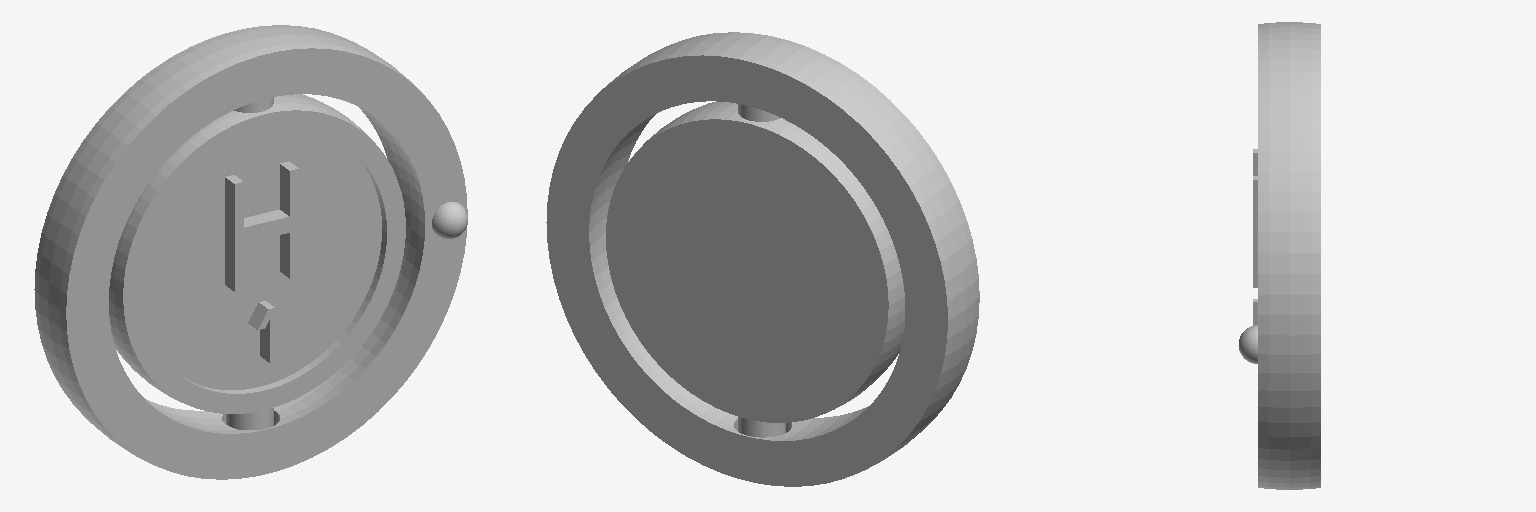
Rendered from 001_-_H_-_Hydrogen.obj.
The picture shows the model from 3 angles: view 1: azimuth 30°, elevation 25°; view 2: azimuth 150°, elevation 25°; view 3: azimuth 270°, elevation 25°; orthographic projection.
Parts seen in each view (by area): view 1: Object.2, Object.1; view 2: Object.2, Object.1; view 3: Object.2, Object.1.
Part boxes in pixels (x1,y1,x2,y2): Object.2: (34,25,467,479); Object.1: (109,94,405,429); Object.2: (546,32,979,486); Object.1: (606,101,904,437); Object.2: (1239,22,1320,489); Object.1: (1253,149,1257,325).
Size of the model in its own units: 48 by 47.95 by 8.5.